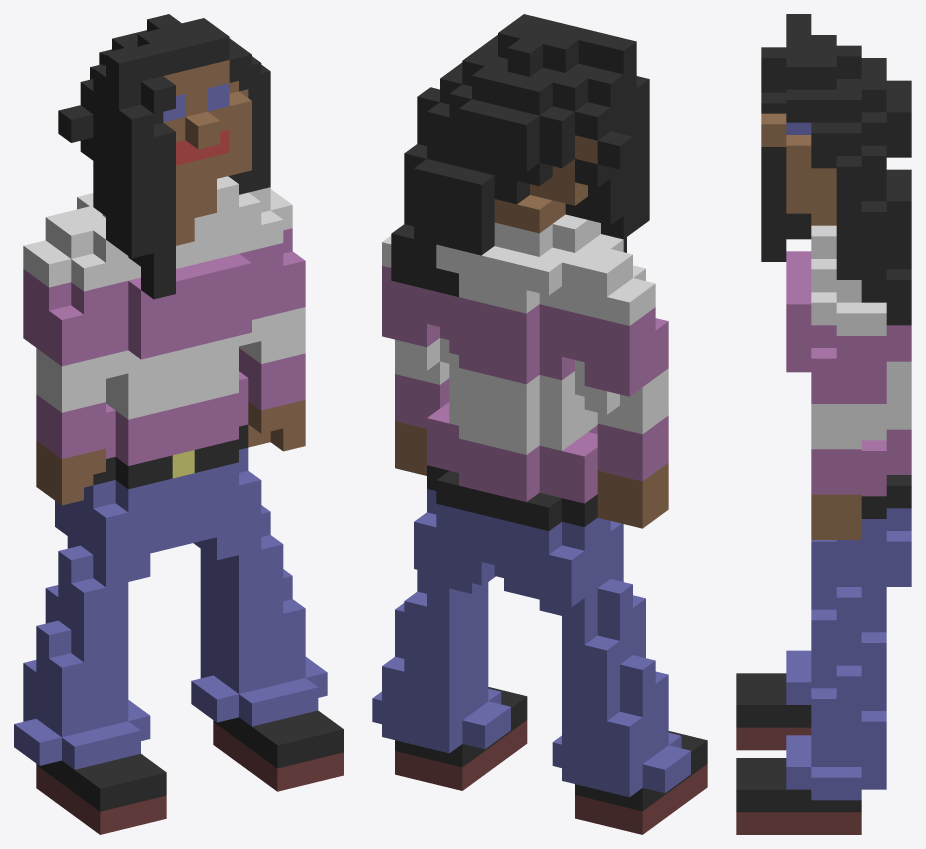
Rendered from girl2_v1.fbx.
The picture shows the model from 3 angles, left to right: view 1: azimuth 30°, elevation 25°; view 2: azimuth 150°, elevation 25°; view 3: azimuth 270°, elevation 25°; orthographic projection. The views are drawn at different scales.
Parts seen in each view (by area): view 1: girl2; view 2: girl2; view 3: girl2.
Part boxes in pixels (bbox=[...]): girl2: bbox=[14, 14, 343, 834]; girl2: bbox=[372, 14, 707, 834]; girl2: bbox=[736, 14, 911, 834].
Size of the model in its own units: 13 by 32 by 7.
